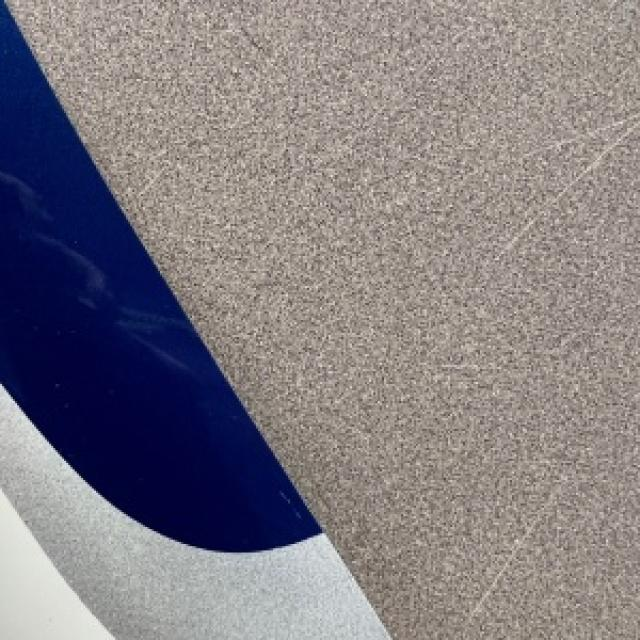healthy: (6, 0, 638, 638), (0, 0, 388, 638)
